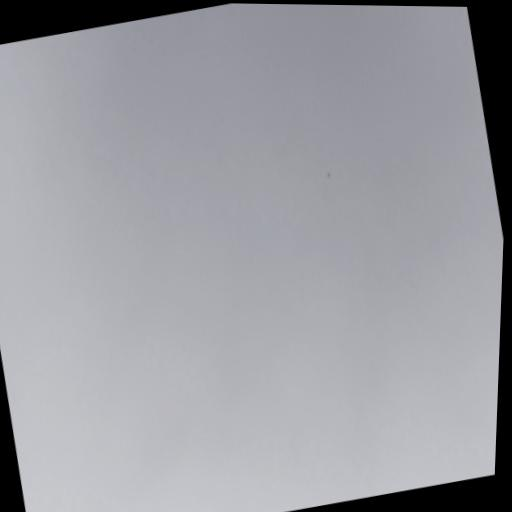drones: (322, 163, 336, 182), (325, 172, 333, 182)
